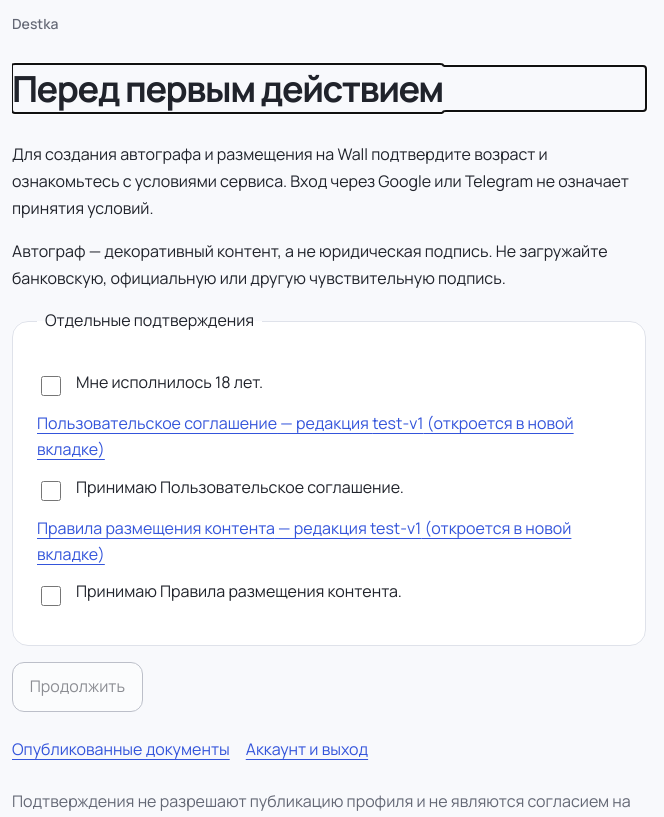
Test: partial failure rechecks evidence but never unlocks on a successful single POST
Click the checkbox labelled "Мне исполнилось 18 лет.": [51, 386] box top-left (41, 376), bottom-right (61, 396)
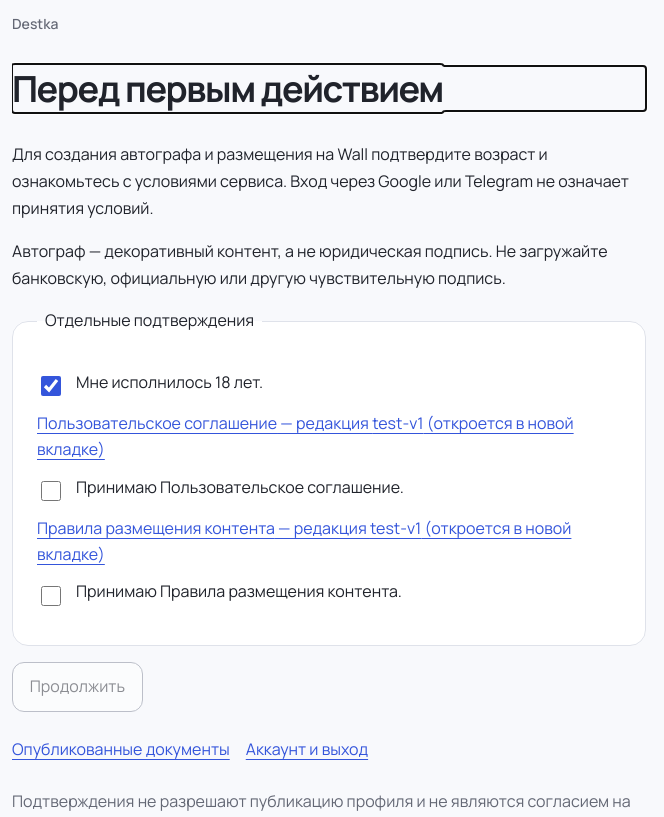
Click the checkbox labelled "Принимаю Пользовательское соглашение.": [51, 491] box top-left (41, 481), bottom-right (61, 501)
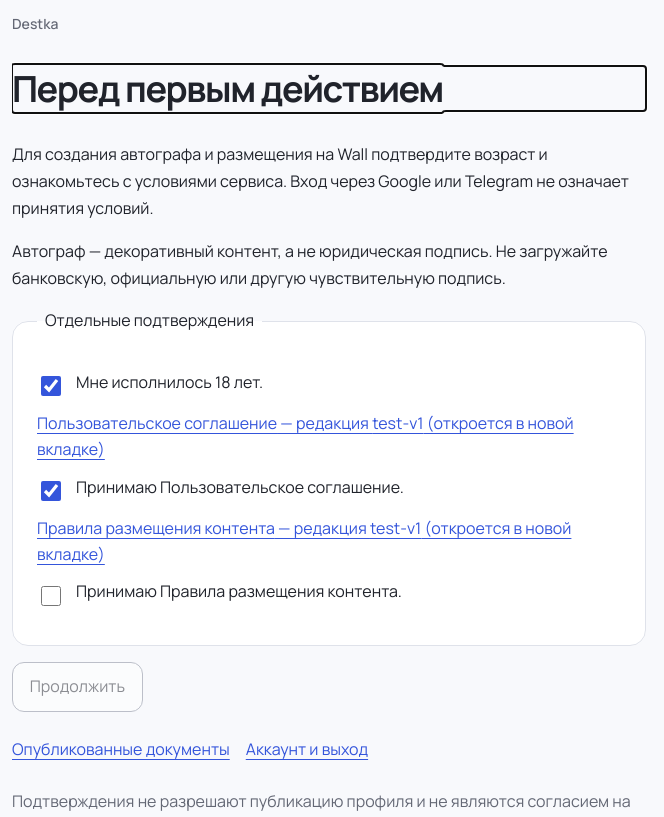
Click the checkbox labelled "Принимаю Правила размещения контента.": [51, 596] box top-left (41, 586), bottom-right (61, 606)
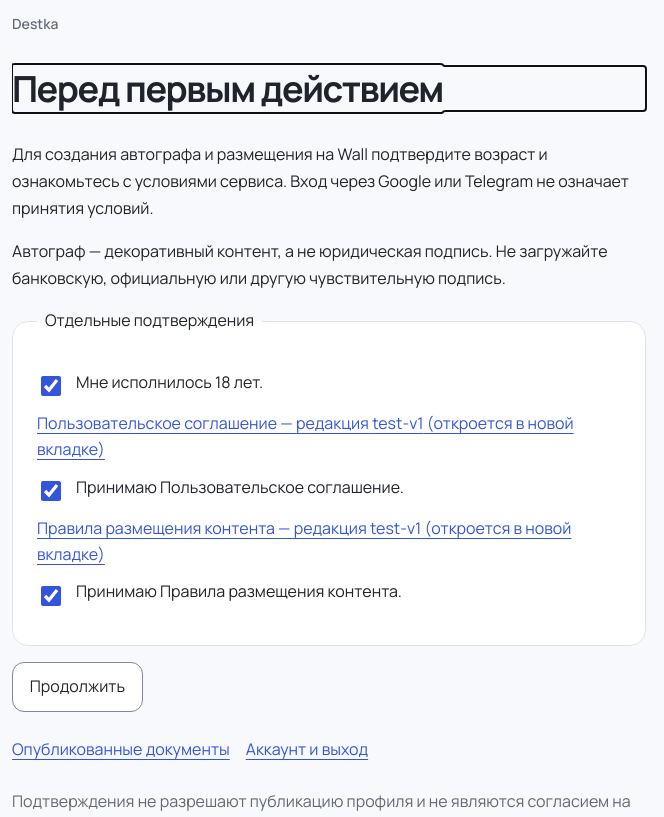
Click the button "Продолжить": [77, 687] box top-left (12, 662), bottom-right (143, 712)
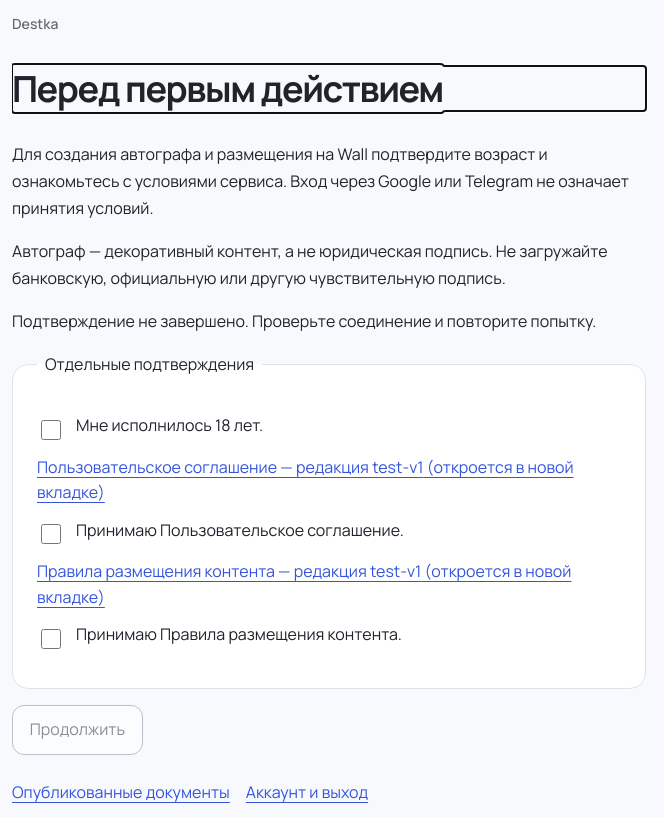
Expected: the text "Подтверждение не завершено. Проверьте соединение и повторите попытку." is shown, top-left (12, 308), bottom-right (646, 336)
